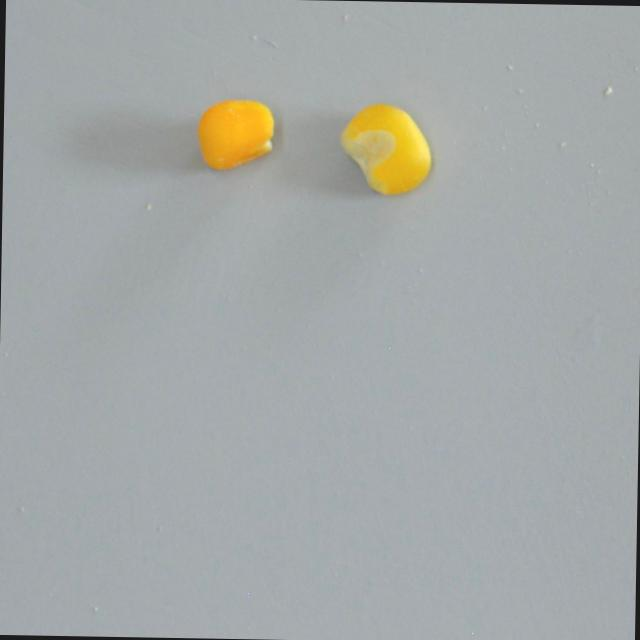dañado: (333, 99, 435, 199), (193, 96, 277, 173)
